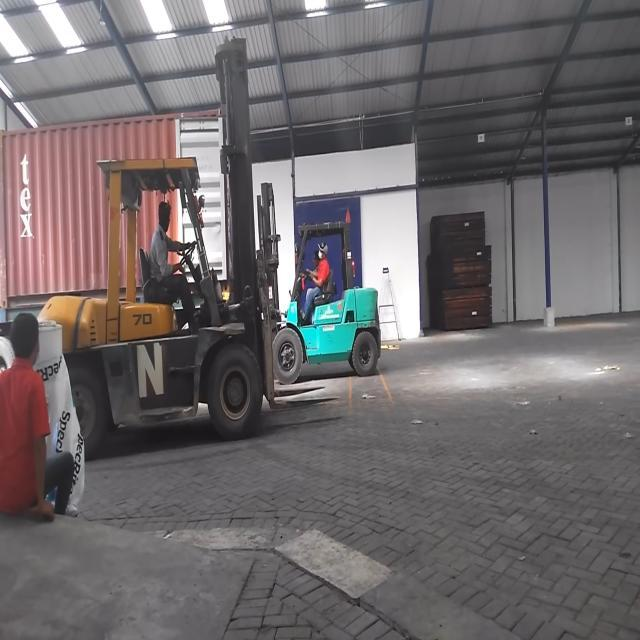driver: (146, 197, 202, 325), (297, 243, 333, 322)
forklift: (60, 152, 274, 458), (271, 212, 384, 378)
person: (0, 308, 75, 520)
